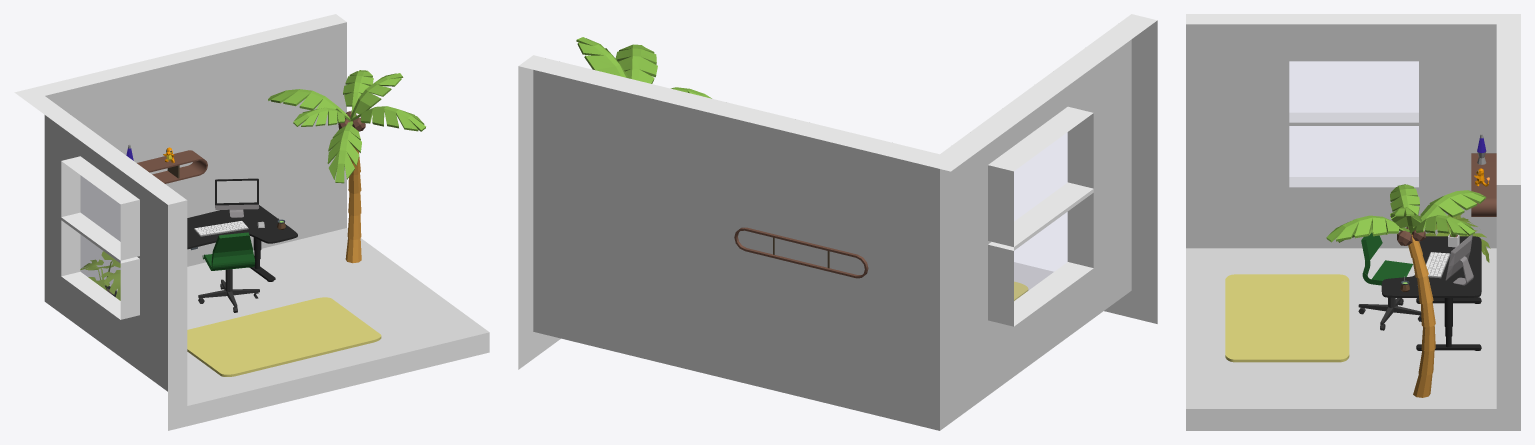
3 views of the same model, side by side, from view 1: azimuth 30°, elevation 25°; view 2: azimuth 150°, elevation 25°; view 3: azimuth 270°, elevation 25° (orthographic). The views are drawn at different scales.
Parts seen in each view (by area): view 1: Plane, WawaRug, palm_tree_01, Desk, Chair, iMac, SM_Shelf:SM_Shelf1, Houseplant_7, keyboard; view 2: Plane, palm_tree_01, SM_Shelf:SM_Shelf1; view 3: Plane, WawaRug, palm_tree_01, Desk, Chair, SM_Shelf:SM_Shelf1, iMac, keyboard, Houseplant_7.
Part boxes in pixels (x1,y1,x2,y2): Plane: (14,14,489,430); WawaRug: (187,297,381,376); palm_tree_01: (268,70,425,263); Desk: (187,205,297,281); Chair: (198,232,259,312); iMac: (215,178,259,217); SM_Shelf:SM_Shelf1: (137,150,207,183); Houseplant_7: (80,251,120,300); keyboard: (194,221,248,236); Plane: (518,14,1157,430); palm_tree_01: (576,37,711,98); SM_Shelf:SM_Shelf1: (734,227,868,278); Plane: (1186,14,1520,430); WawaRug: (1225,274,1349,362); palm_tree_01: (1326,184,1486,397); Desk: (1381,236,1481,350); Chair: (1358,232,1421,330); SM_Shelf:SM_Shelf1: (1471,153,1496,216); iMac: (1445,234,1473,285); keyboard: (1426,252,1450,278); Houseplant_7: (1406,214,1490,262).
Size of the model in its own units: 5.92 by 3.84 by 4.74.
